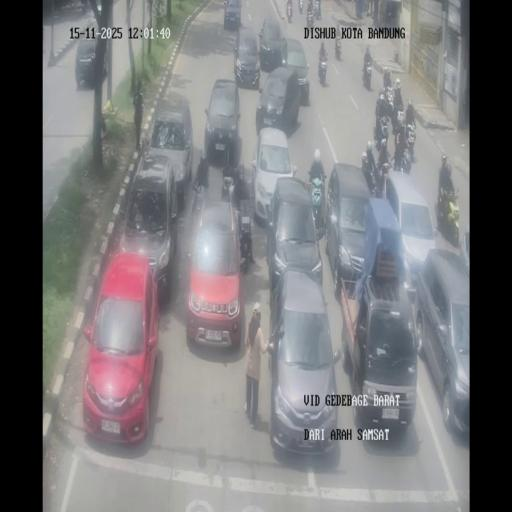car: (82, 251, 160, 443), (341, 256, 418, 438), (267, 270, 339, 455), (413, 250, 469, 438), (185, 196, 246, 350), (382, 174, 438, 292), (326, 163, 373, 292), (145, 97, 192, 203), (251, 124, 296, 226), (204, 78, 242, 166), (281, 38, 310, 104), (74, 36, 108, 90), (234, 25, 261, 87), (258, 17, 285, 70), (224, 0, 242, 30), (460, 228, 470, 282), (90, 0, 104, 20)
motorcycle: (436, 186, 460, 246), (190, 175, 206, 239), (310, 176, 326, 235), (238, 223, 254, 267), (392, 138, 412, 173), (361, 153, 376, 195), (376, 161, 392, 196), (375, 119, 389, 153), (392, 104, 404, 136), (318, 51, 328, 86), (385, 89, 395, 122), (375, 93, 386, 123), (362, 60, 372, 90), (405, 118, 416, 145), (382, 66, 392, 89), (335, 38, 343, 61), (306, 6, 314, 26), (286, 2, 293, 22), (315, 2, 321, 19), (363, 0, 369, 16), (298, 0, 304, 13)
